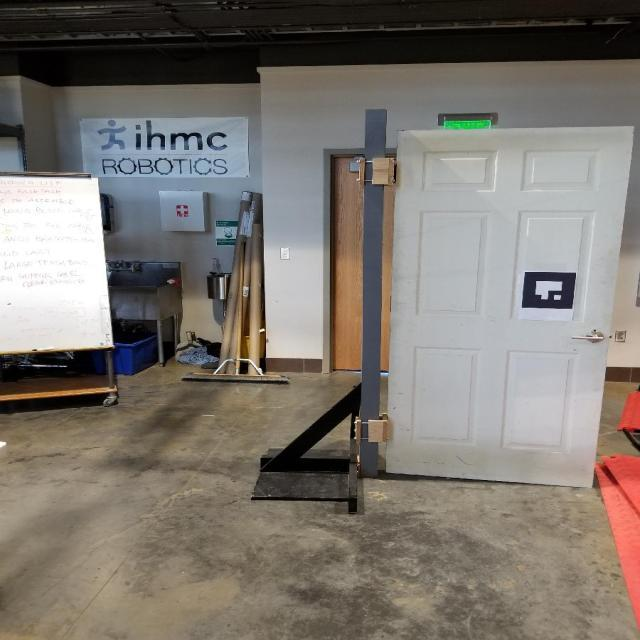door: (382, 125, 640, 492), (568, 326, 610, 348)
